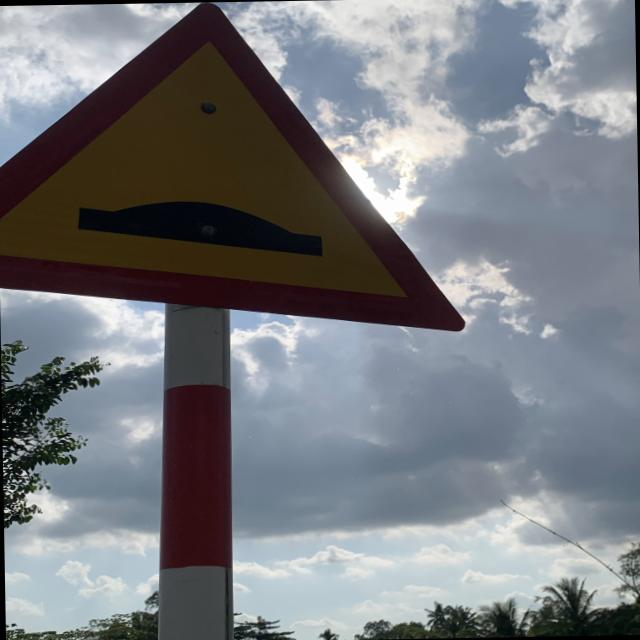Duong_Cong_Ben_Phai: (0, 0, 463, 340)
